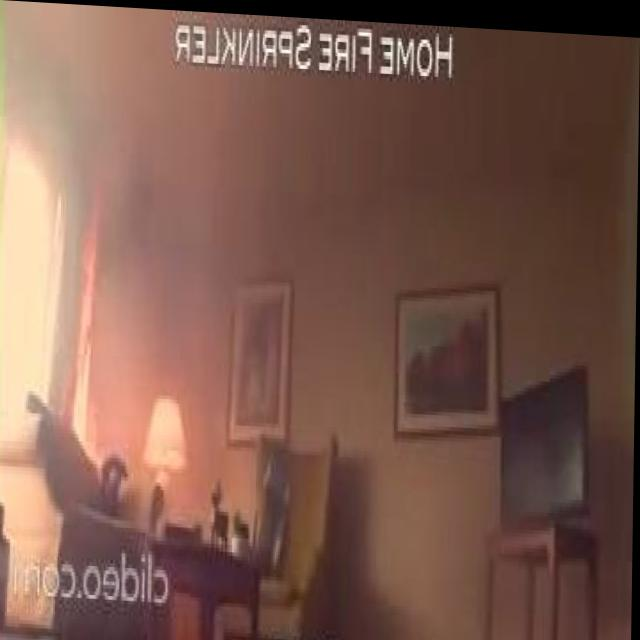fire: (71, 178, 122, 471)
